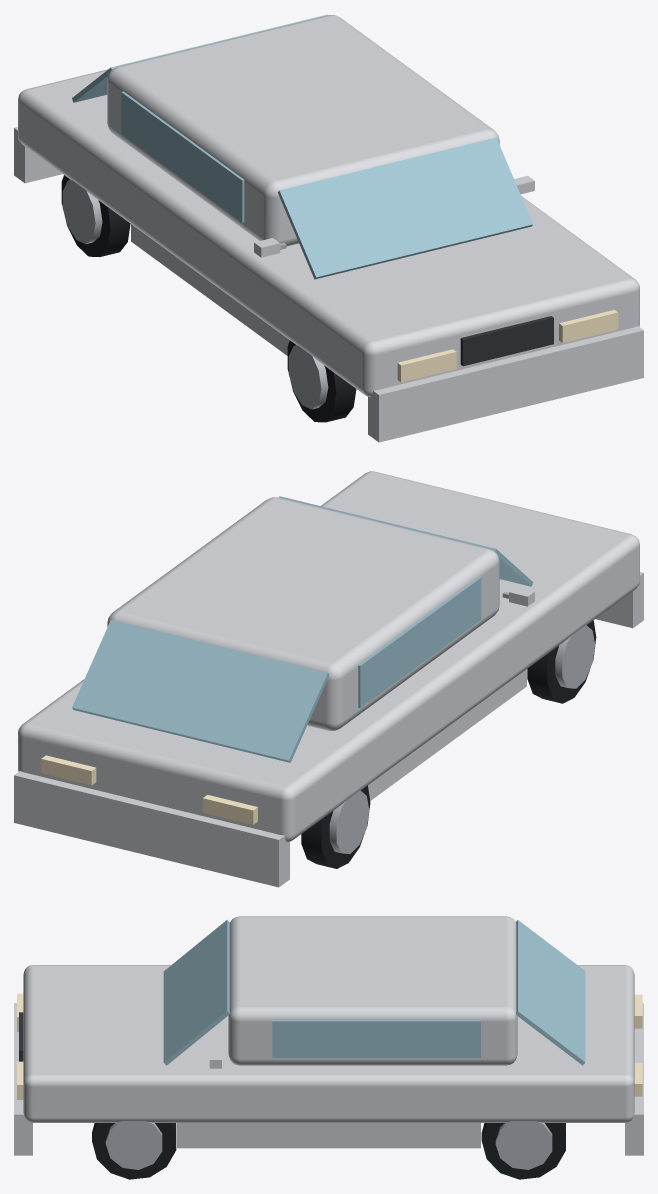
Rendered from car-lite.glb.
3 renders of one model, top to bottom at view 1: azimuth 30°, elevation 25°; view 2: azimuth 150°, elevation 25°; view 3: azimuth 270°, elevation 25°, orthographic. The views are drawn at different scales.
Parts seen in each view (by area): view 1: material-0-body, material-1-glass, material-2-metal, material-3-trim, material-5-grating, material-4-lit; view 2: material-0-body, material-1-glass, material-2-metal, material-3-trim, material-4-lit; view 3: material-0-body, material-1-glass, material-2-metal, material-3-trim, material-4-lit.
Boxes of the visible parts, x1,y1,x2,y2 form: material-0-body: [14, 15, 643, 442]; material-1-glass: [72, 14, 532, 279]; material-2-metal: [62, 180, 328, 409]; material-3-trim: [61, 175, 356, 422]; material-5-grating: [460, 316, 553, 366]; material-4-lit: [397, 310, 618, 382]; material-0-body: [14, 471, 643, 887]; material-1-glass: [72, 496, 533, 762]; material-2-metal: [329, 592, 595, 853]; material-3-trim: [301, 620, 596, 868]; material-4-lit: [41, 755, 257, 824]; material-0-body: [14, 916, 643, 1155]; material-1-glass: [163, 920, 585, 1065]; material-2-metal: [105, 1121, 552, 1169]; material-3-trim: [92, 1123, 565, 1179]; material-4-lit: [17, 993, 642, 1099].
Bounding box in the file's own units: 2.19 × 1.43 × 5.01.
